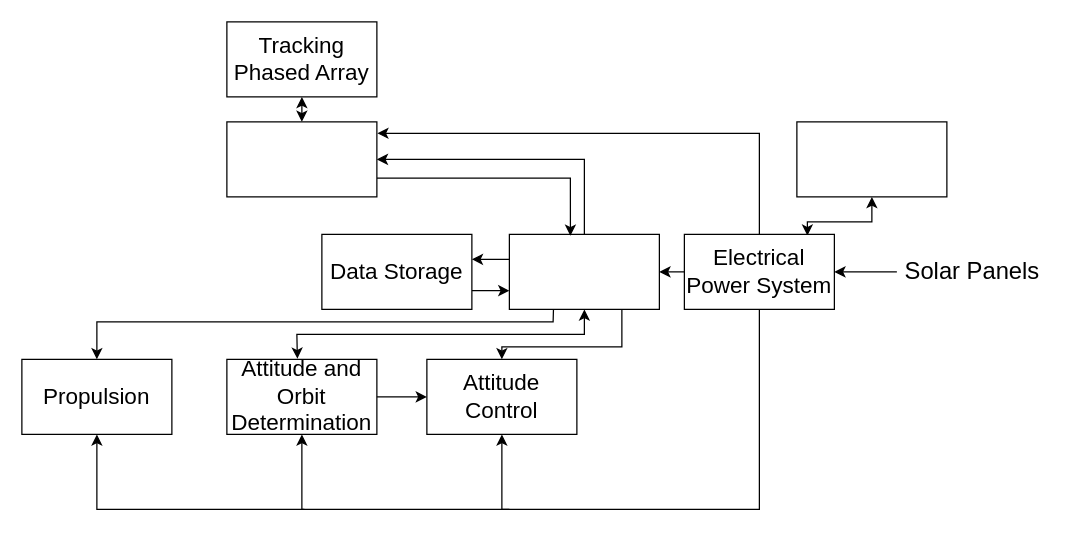
The diagram is 1069 pixels wide and 541 high, and some of its shapes have lost their labels. Here are the shapes that lost their labels. From the top down, the centre of each, then its label:
At (x=301, y=159): "Transceiver".
At (x=871, y=159): "Battery".
At (x=583, y=271): "On-Board Computer".
